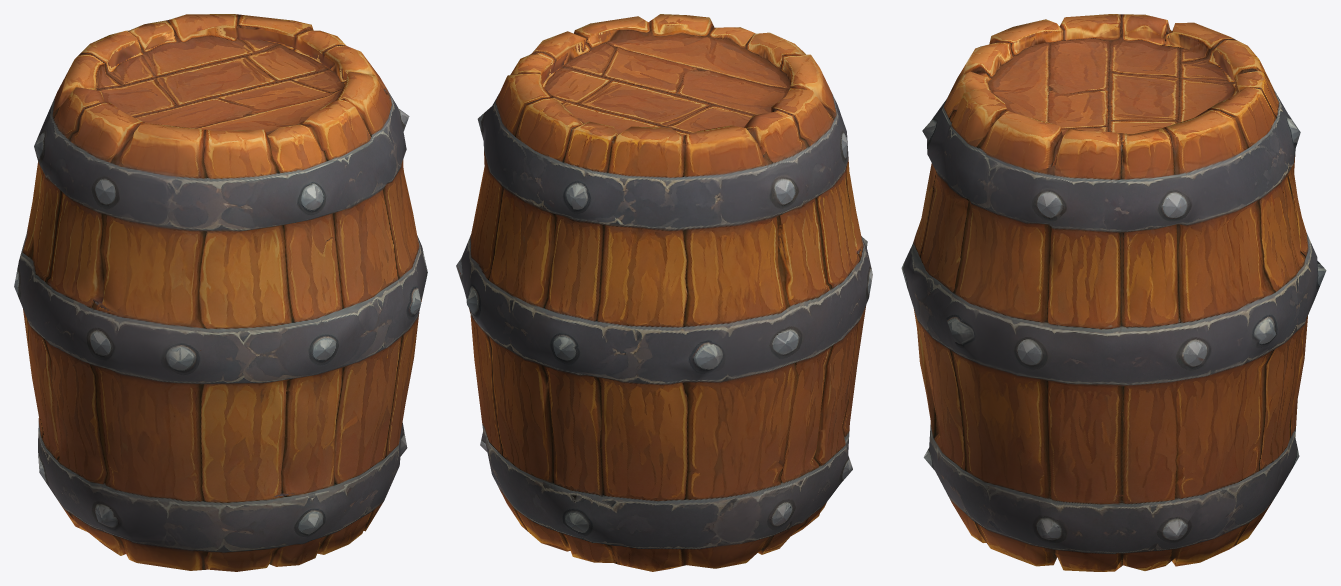
File: Barrel.glb
3 renders of one model, left to right at view 1: azimuth 30°, elevation 25°; view 2: azimuth 150°, elevation 25°; view 3: azimuth 270°, elevation 25°, orthographic.
Parts seen in each view (by area): view 1: texture_mapping; view 2: texture_mapping; view 3: texture_mapping.
Part boxes in pixels (x1,y1,x2,y2): texture_mapping: [14, 14, 427, 571]; texture_mapping: [456, 14, 872, 571]; texture_mapping: [901, 14, 1326, 571].
Bounding box in the file's own units: 0.8465 × 1 × 0.8851.
Materials: 1 (1 with a texture image).
